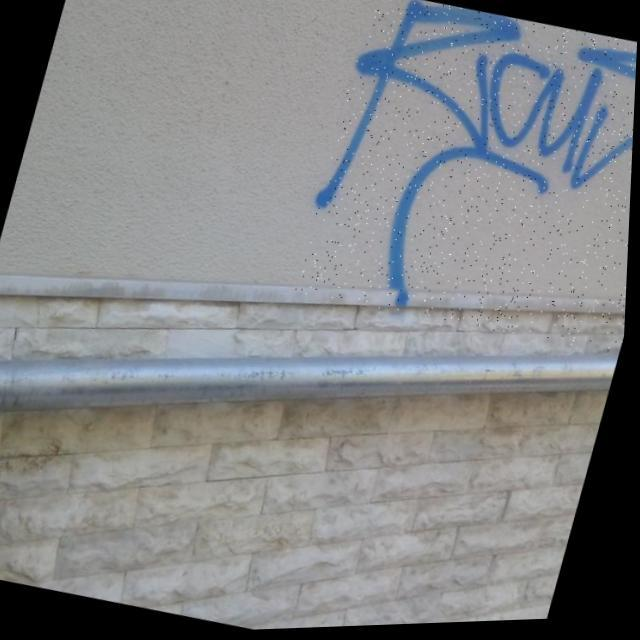-: (292, 0, 640, 369)
